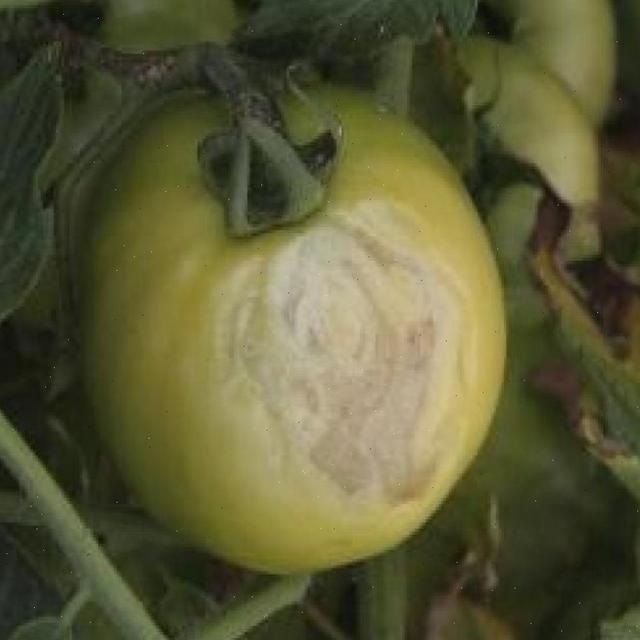Sunscald Fruit: (154, 142, 315, 343)
